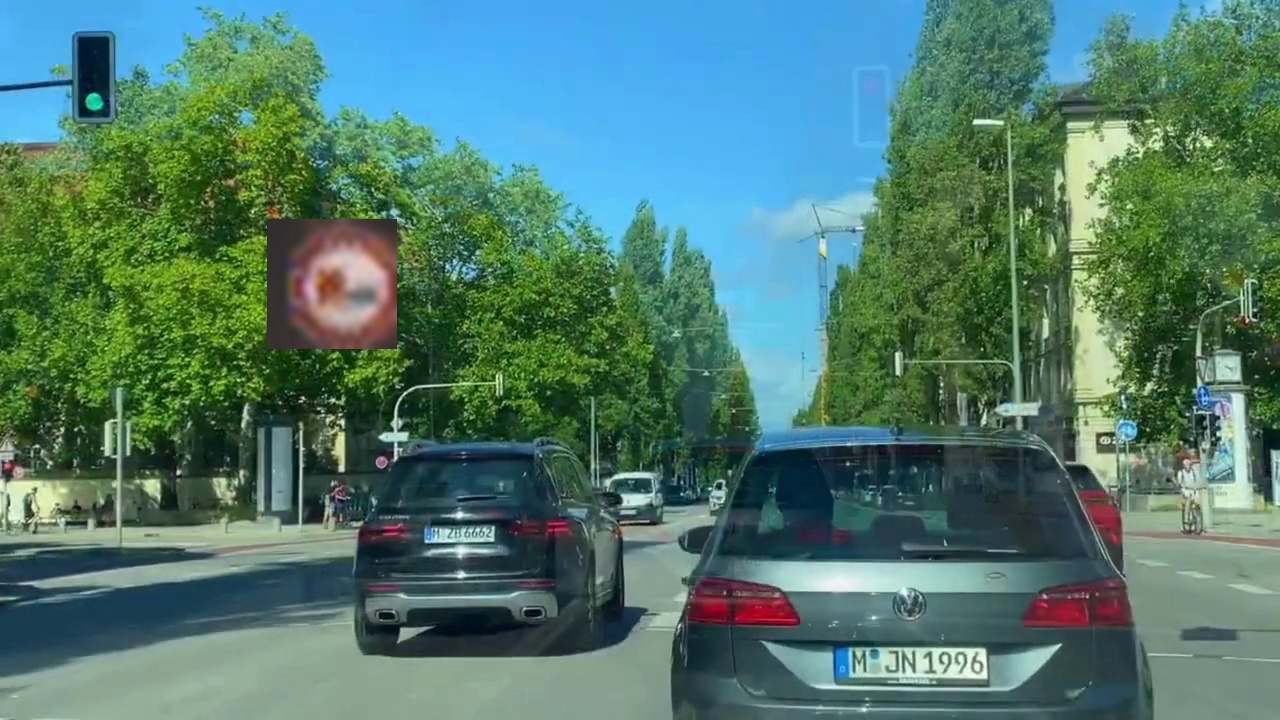No pass >3.5t: (267, 219, 397, 349)
